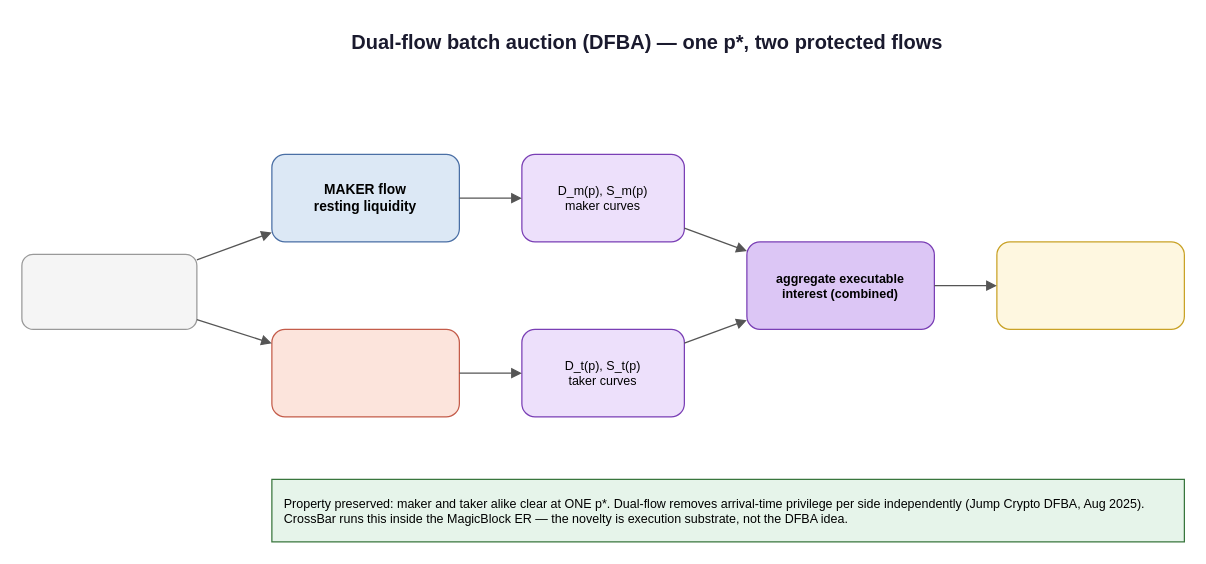
Image size: 1206x564. Some labels were removed from this diagram. The centre of each missing label's shape, as x and y in pixels:
"batch window orders (tagged at submit)" belongs at [109,291].
"single uniform p* + fills per flow" belongs at [1090,285].
"TAKER flow aggressive orders" belongs at [365,372].
